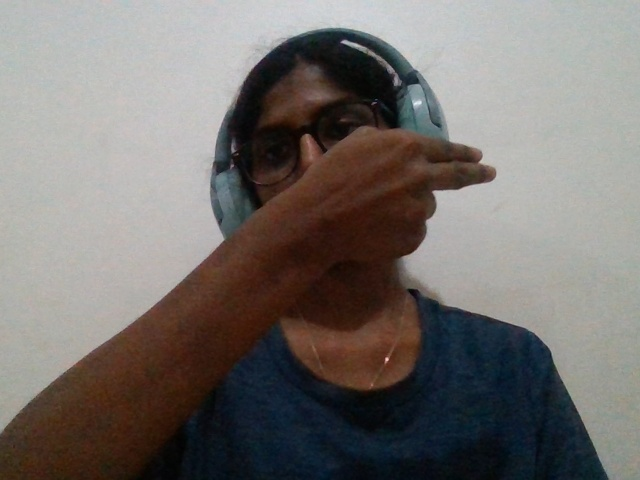H: (184, 98, 542, 326)
